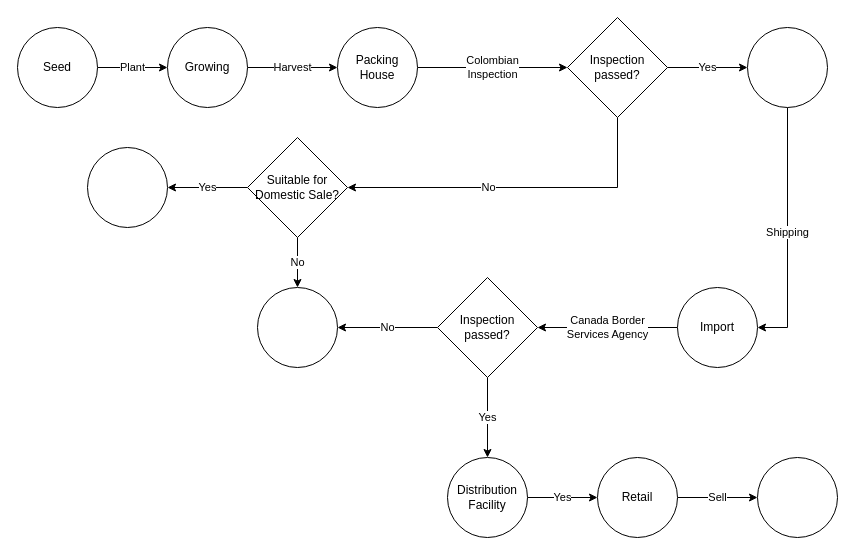
The diagram is 855 pixels wide and 555 high, and some of its shapes have lost their labels. The shapes that lost their labels are listed below. From the top down, each one's centre as x and y in pixels, then its label:
the point at 787,67: Export
the point at 127,187: Sell Domestically
the point at 297,327: Compost
the point at 797,497: Consumer
